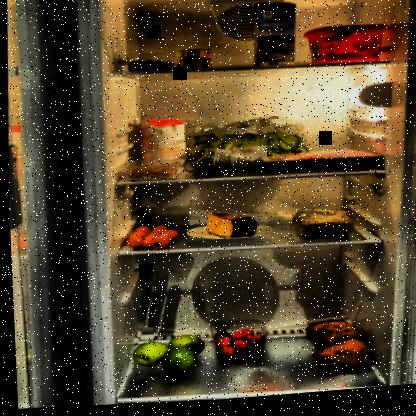apple: (126, 333, 206, 381)
blueberries: (123, 53, 181, 77)
butter: (301, 24, 392, 74)
carrot: (119, 224, 180, 255)
cheese: (200, 211, 258, 245)
corn: (178, 50, 213, 75)
ground_beef: (254, 149, 384, 184)
milk: (249, 0, 300, 74)
spinach: (186, 124, 315, 177)
strawberries: (204, 327, 265, 369)
sweet_potato: (298, 319, 374, 381)
